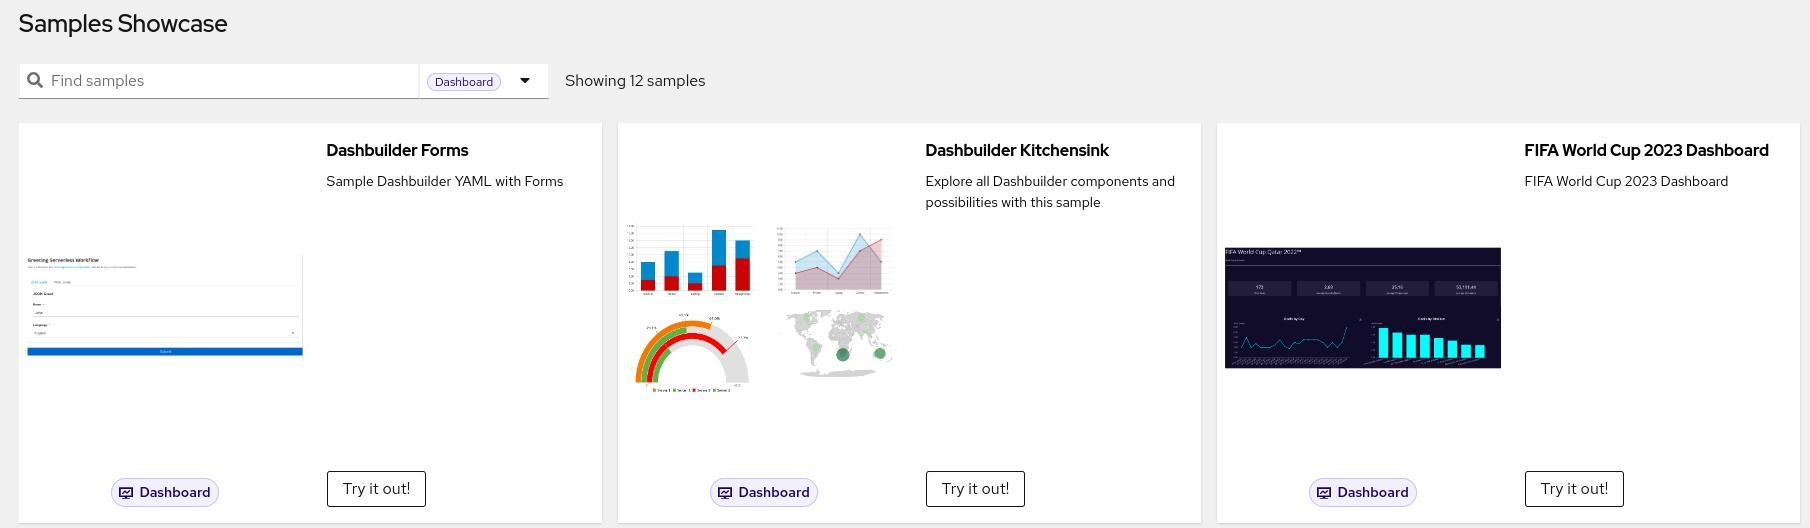button: (927, 469, 1025, 511), (328, 473, 425, 508), (113, 479, 220, 508), (711, 478, 818, 507), (1311, 479, 1415, 508)
dropdown: (422, 65, 549, 97)
input: (20, 65, 424, 99)
